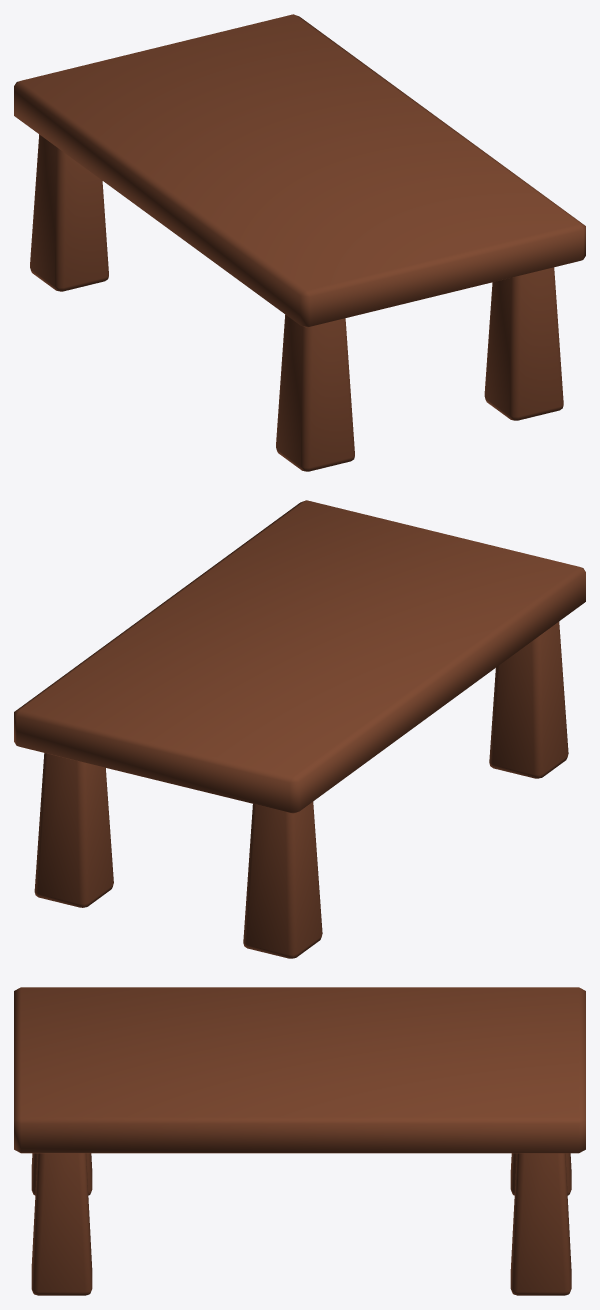
Rendered from crafting_bench.glb.
The picture shows the model from 3 angles, top to bottom: view 1: azimuth 30°, elevation 25°; view 2: azimuth 150°, elevation 25°; view 3: azimuth 270°, elevation 25°; orthographic projection. The views are drawn at different scales.
Parts seen in each view (by area): view 1: Table, Leg; view 2: Table, Leg; view 3: Table, Leg.
Boxes of the visible parts, left/top/right/bottom form: Table: left=14, top=14, right=585, bottom=327; Leg: left=30, top=134, right=563, bottom=471; Table: left=14, top=500, right=585, bottom=813; Leg: left=34, top=621, right=568, bottom=958; Table: left=14, top=987, right=585, bottom=1153; Leg: left=31, top=1153, right=571, bottom=1295.
Size of the model in its own units: 1.81 by 1.15 by 3.23.
